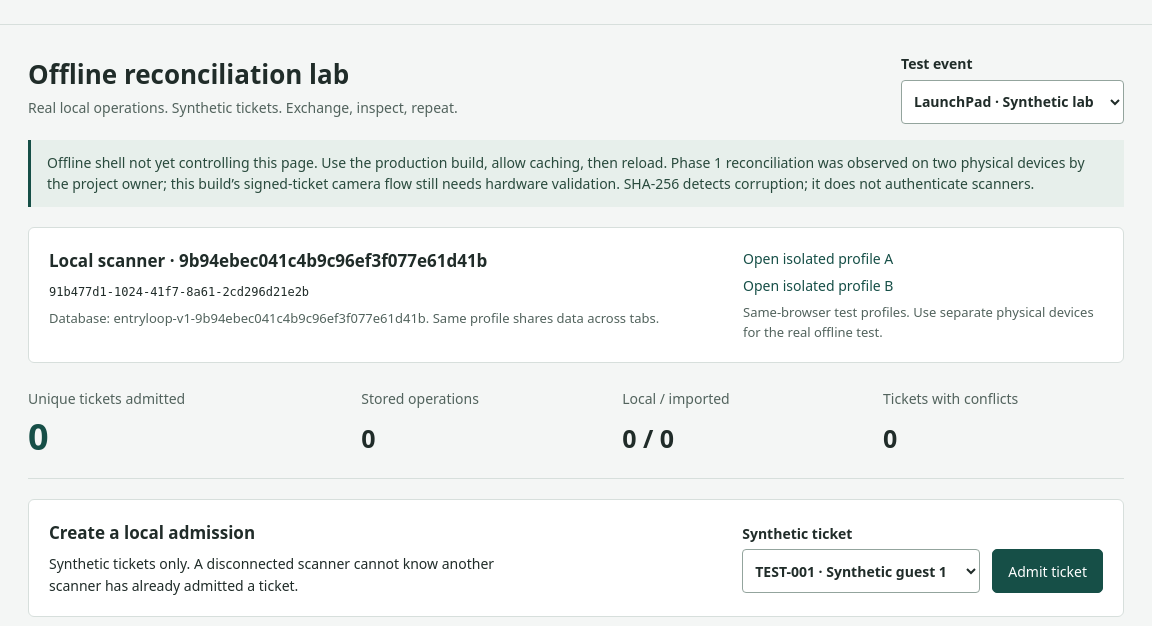
Test case: real workbench integration › rejects malformed input visibly and requires a scoped reset confirmation
Step 1. Click the button "Admit ticket" → click(1048, 571), box [992, 549, 1103, 593]
(page scrolled)
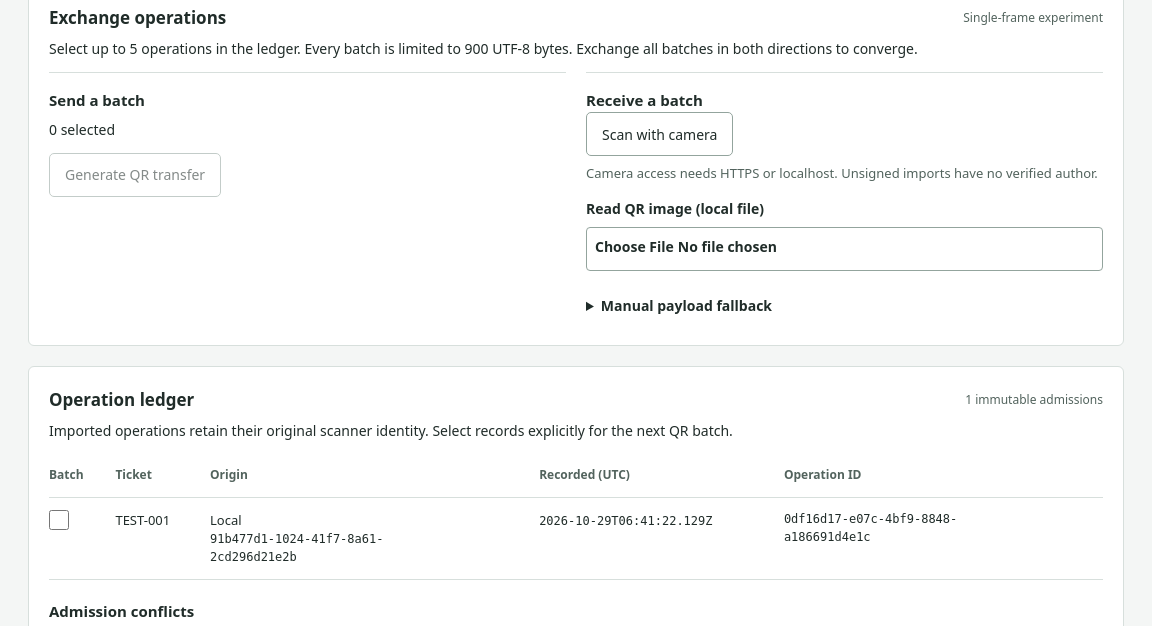
Step 2. Click the heading "Manual payload fallback" → click(686, 306), box [601, 296, 772, 315]
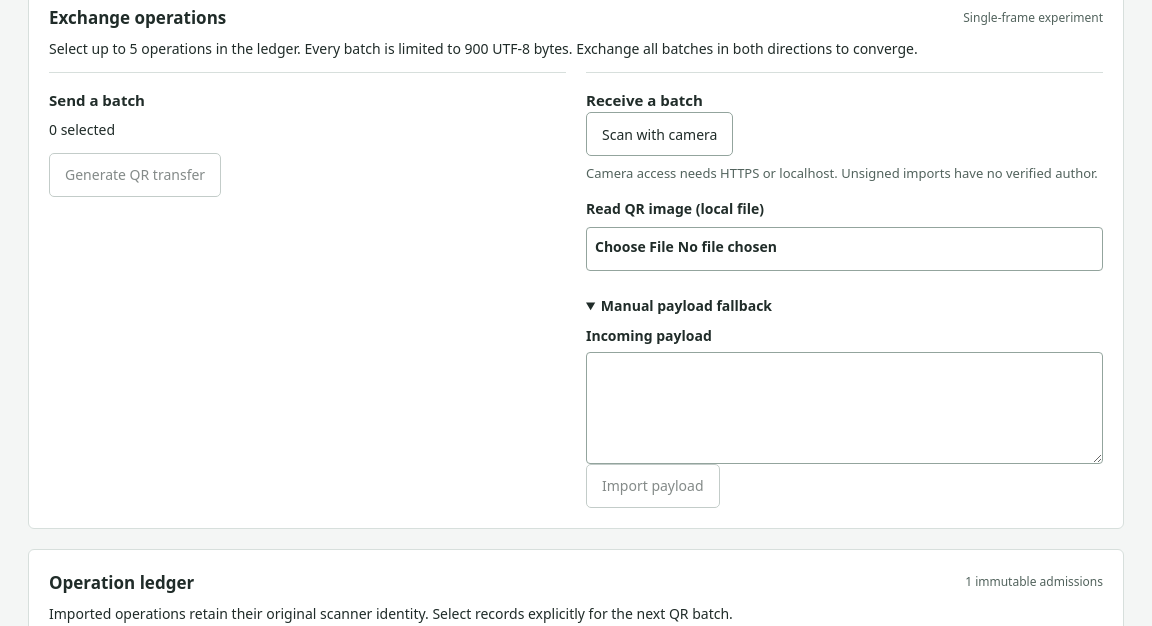
Step 3. Type "broken" into the text box labelled "Incoming payload" → (844, 408), box [586, 352, 1103, 464]
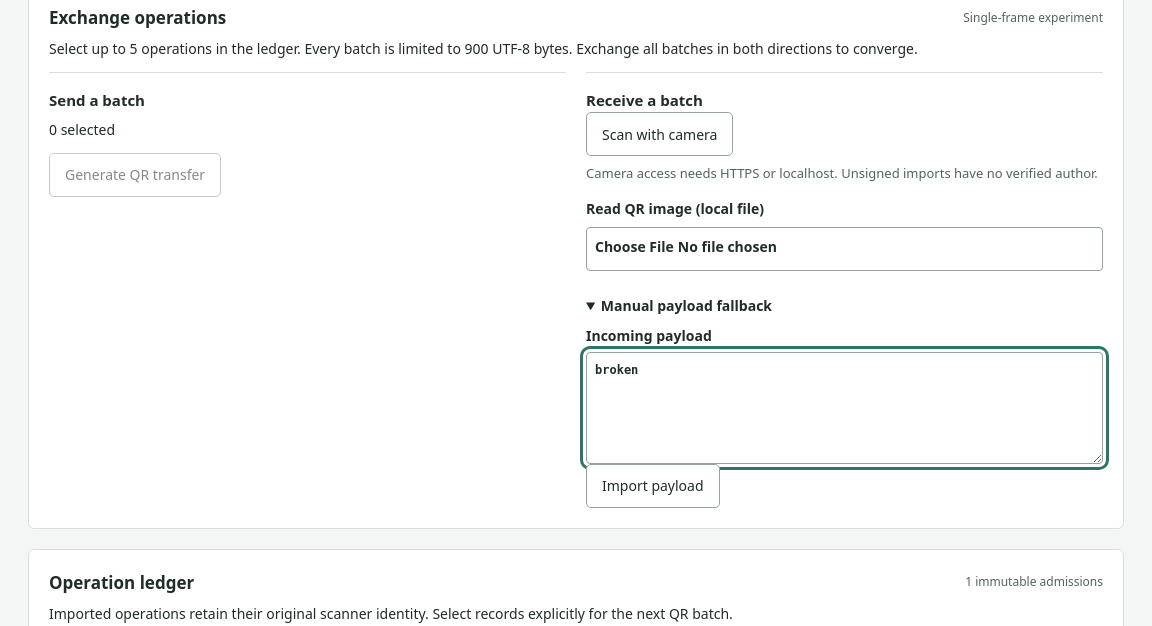
Step 4. Click the button "Import payload" → click(653, 486), box [586, 464, 720, 508]
(page scrolled)
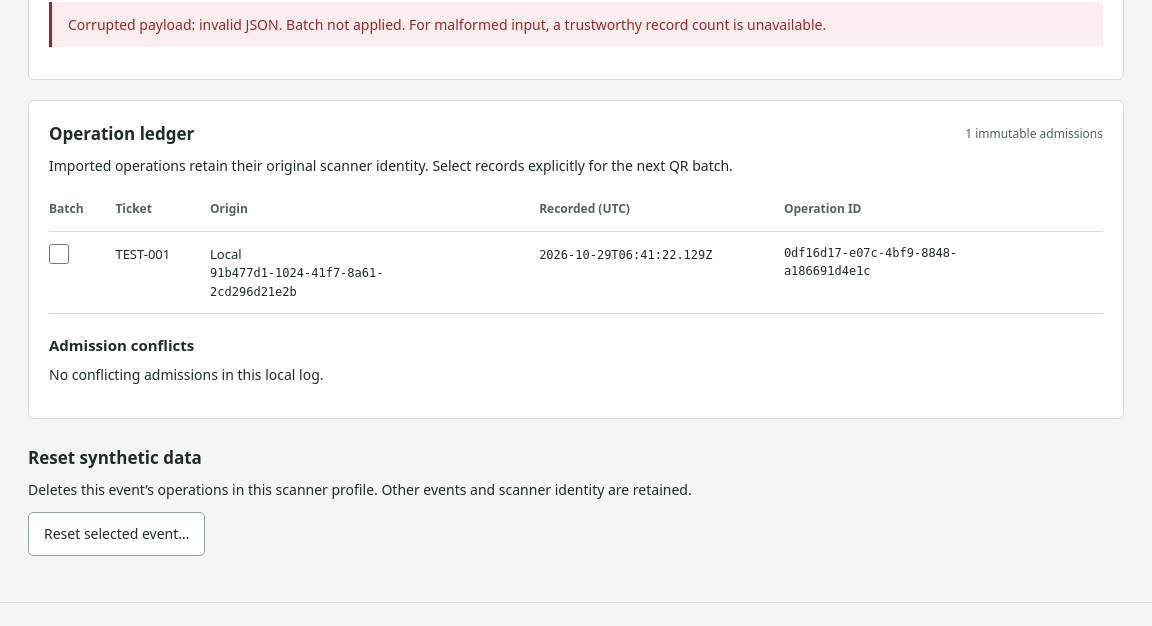
Now the message shows "invalid JSON", box [68, 15, 282, 34]
Step 5. Click the button "Reset selected event…" → click(117, 534), box [28, 512, 205, 556]
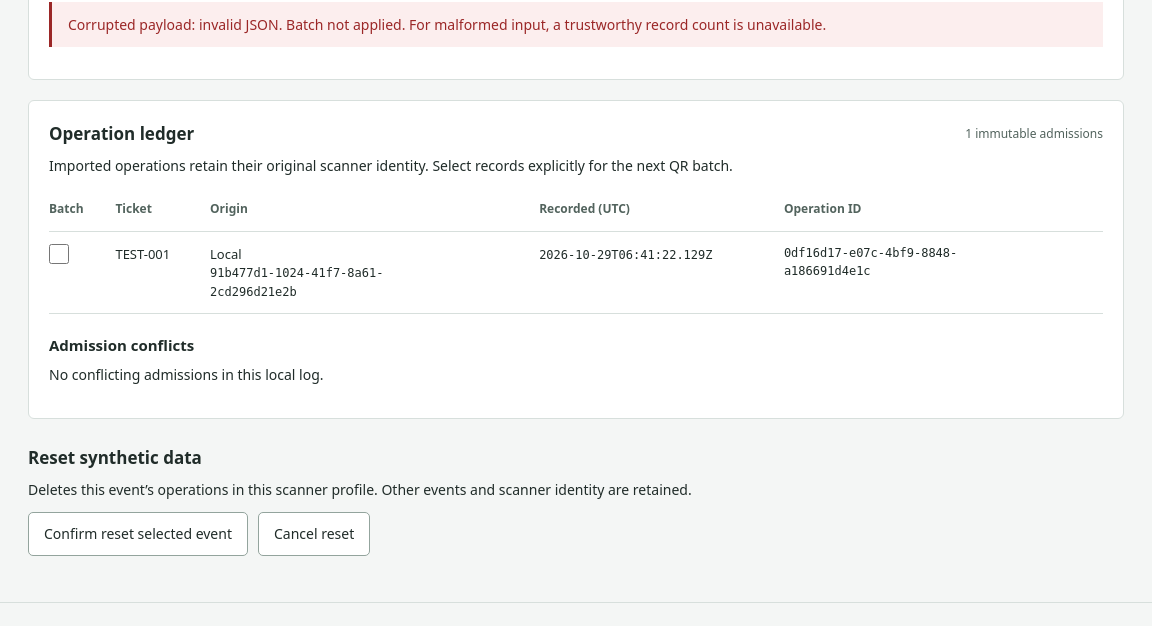
Step 6. Click the button "Confirm reset selected event" → click(138, 534), box [28, 512, 248, 556]
(page scrolled)
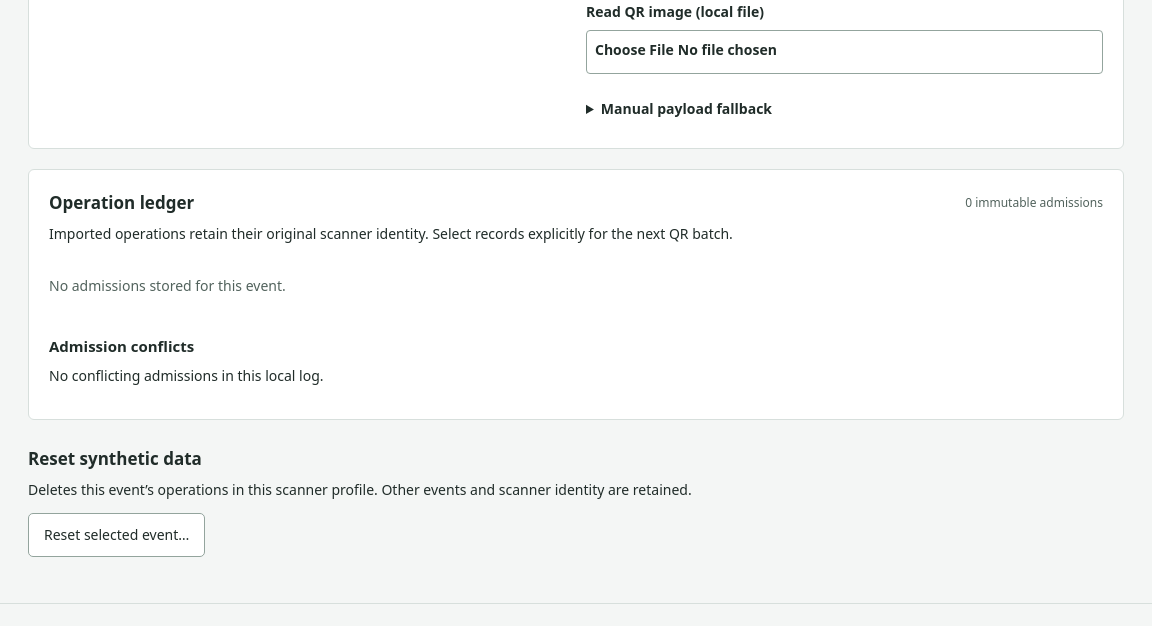
Now the text "No admissions stored for this event." is shown, box [49, 276, 286, 295]
